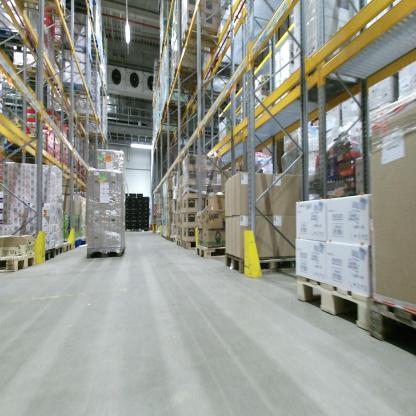pallet: (293, 270, 369, 338), (366, 293, 415, 356), (224, 247, 297, 276), (179, 19, 221, 61), (2, 29, 46, 54), (13, 59, 52, 87), (84, 237, 128, 260), (57, 75, 95, 100), (0, 249, 35, 276), (21, 1, 67, 21), (174, 58, 201, 86), (168, 76, 201, 97), (197, 244, 229, 261), (40, 249, 57, 265), (181, 237, 198, 250), (60, 240, 71, 253), (56, 242, 64, 256), (126, 227, 137, 233), (175, 237, 181, 247), (137, 227, 149, 232), (168, 236, 175, 244)
